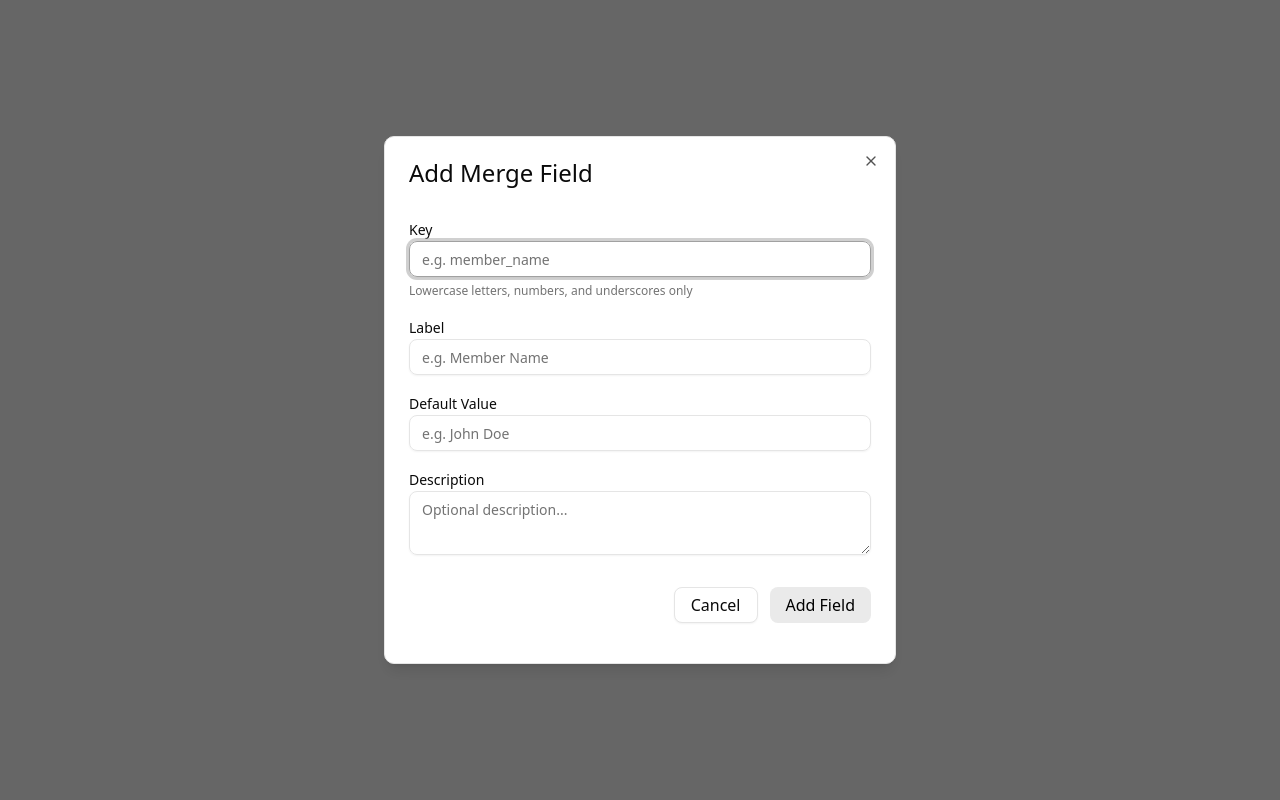
AddMergeFieldModal › should disable cancel button while saving
The width and height of the screenshot is (1280, 800).
Type "member_name" into the field with placeholder "e.g. member_name" at coordinates (640, 259), box [409,241,871,277]
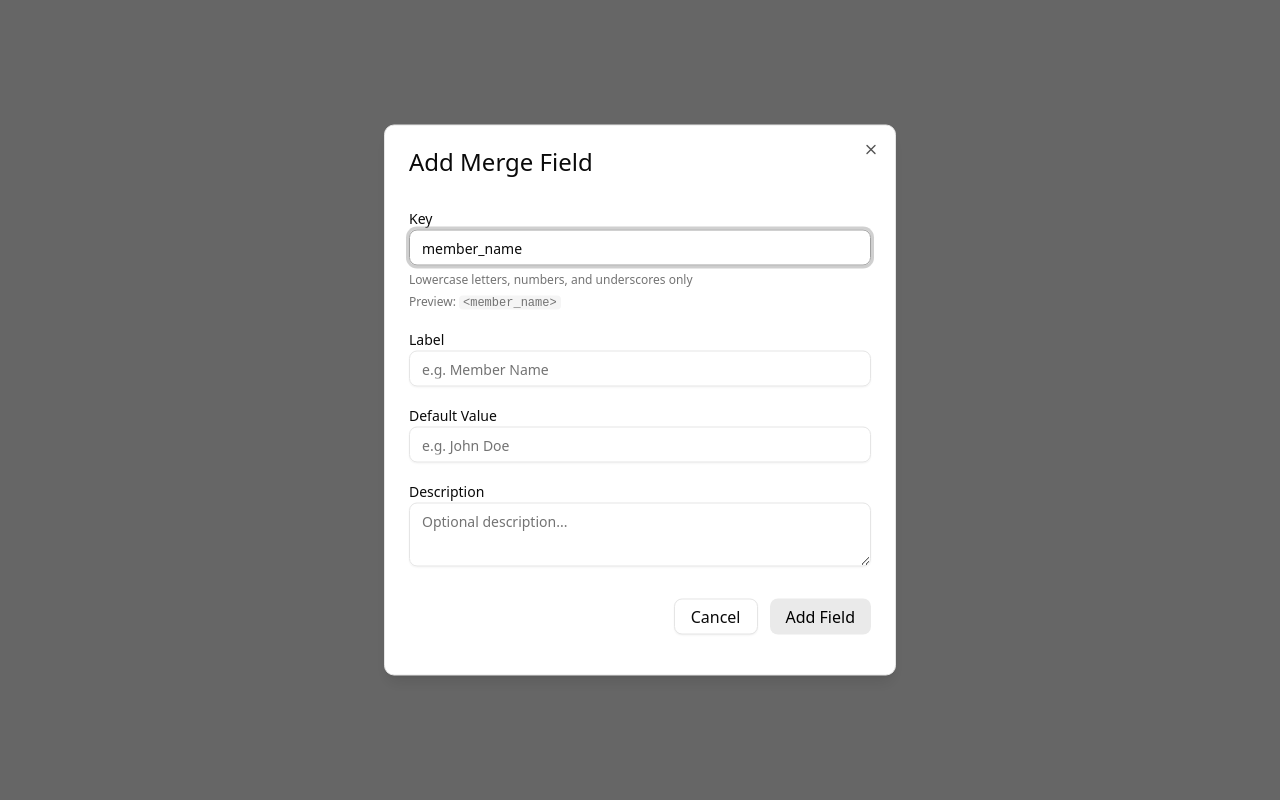
Type "Member Name" into the field with placeholder "e.g. Member Name" at coordinates (640, 368), box [409,350,871,386]
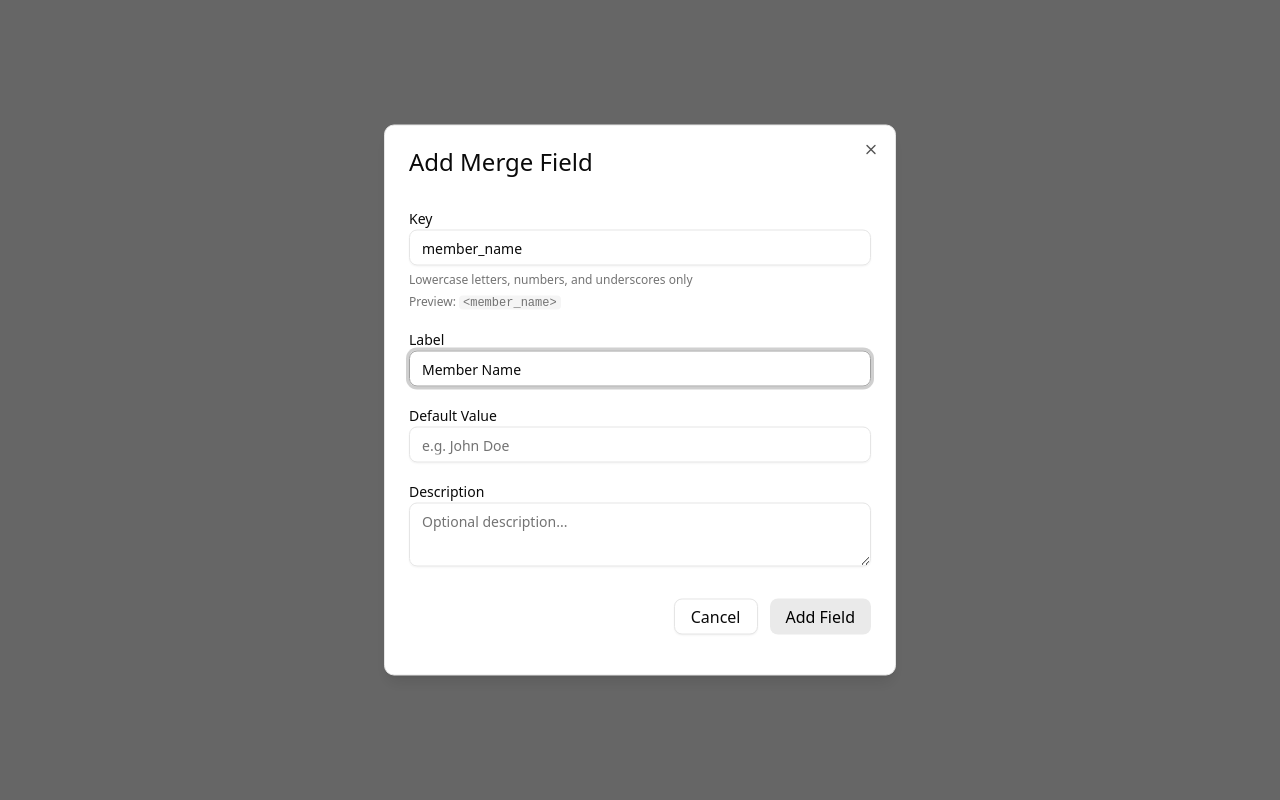
Type "John Doe" into the field with placeholder "e.g. John Doe" at coordinates (640, 444), box [409,426,871,462]
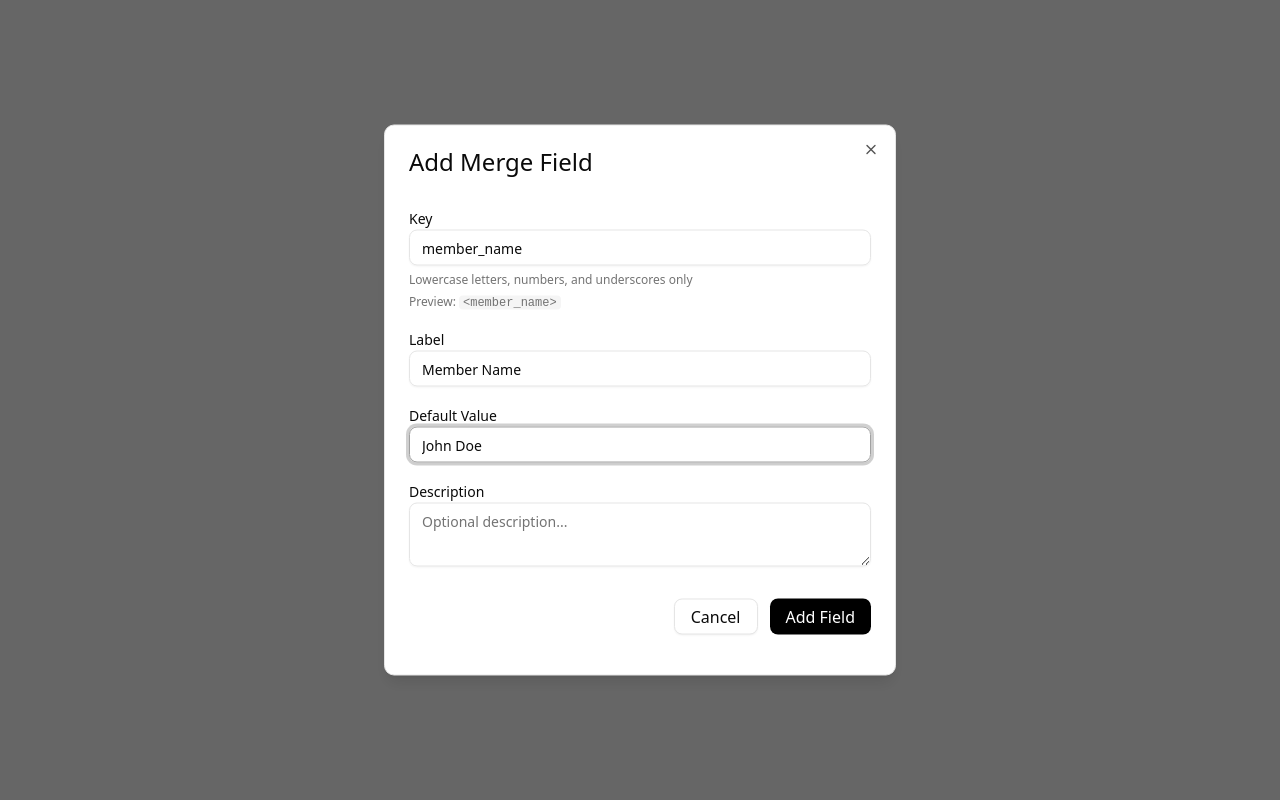
Click the button "Add Field" at coordinates (820, 616), box [770,598,871,634]
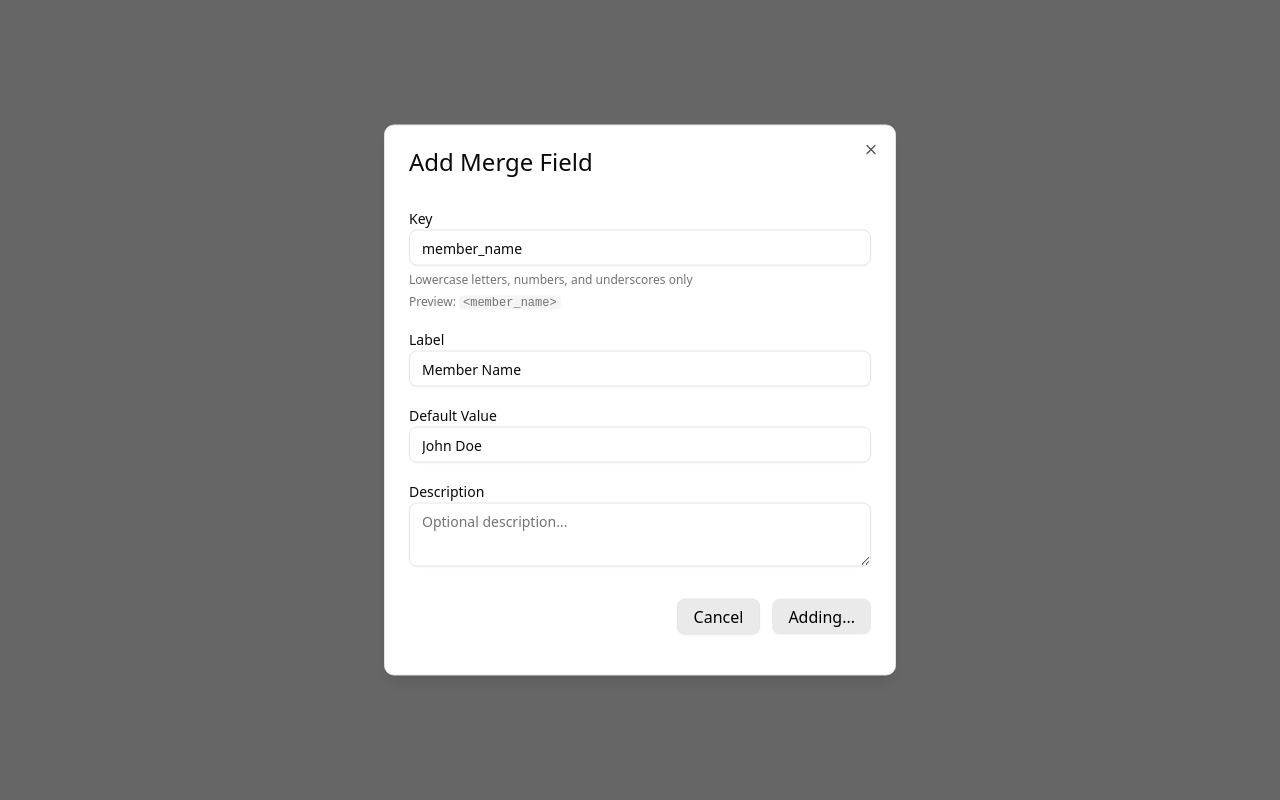
Now the button "Cancel" is disabled, box [677,598,760,634]
